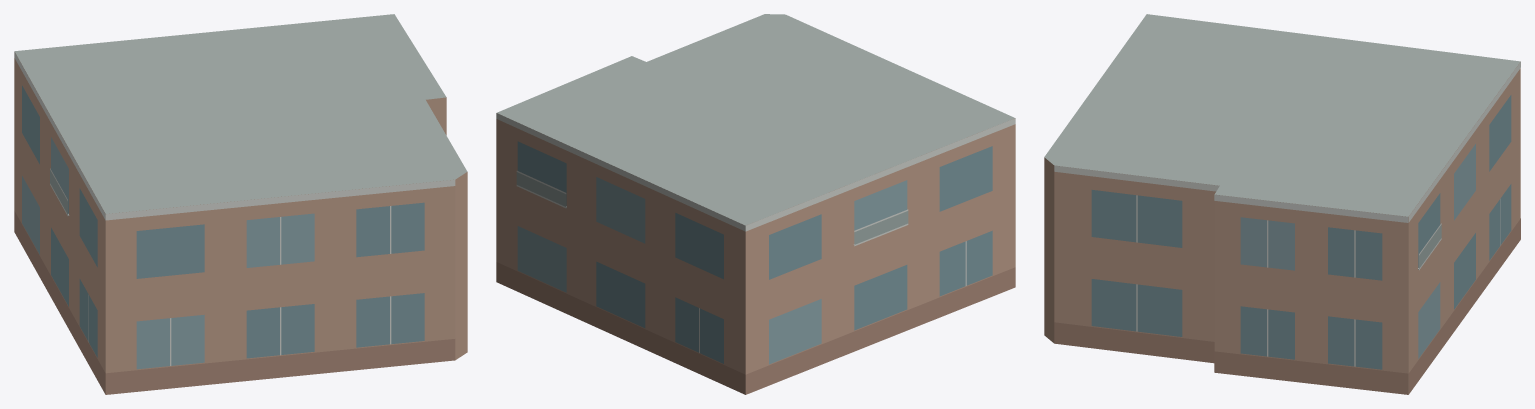
File: survey-upis-32490643.glb
3 views of the same model, side by side, from view 1: azimuth 30°, elevation 25°; view 2: azimuth 150°, elevation 25°; view 3: azimuth 270°, elevation 25° (orthographic). The views are drawn at different scales.
Visible parts, largest first — view 1: survey-upis-32490643.tmp; view 2: survey-upis-32490643.tmp; view 3: survey-upis-32490643.tmp.
Part boxes in pixels (x1,y1,x2,y2): survey-upis-32490643.tmp: [14, 14, 467, 394]; survey-upis-32490643.tmp: [496, 14, 1015, 394]; survey-upis-32490643.tmp: [1044, 14, 1520, 394].
Size of the model in its own units: 16.85 by 6.9 by 16.74.
